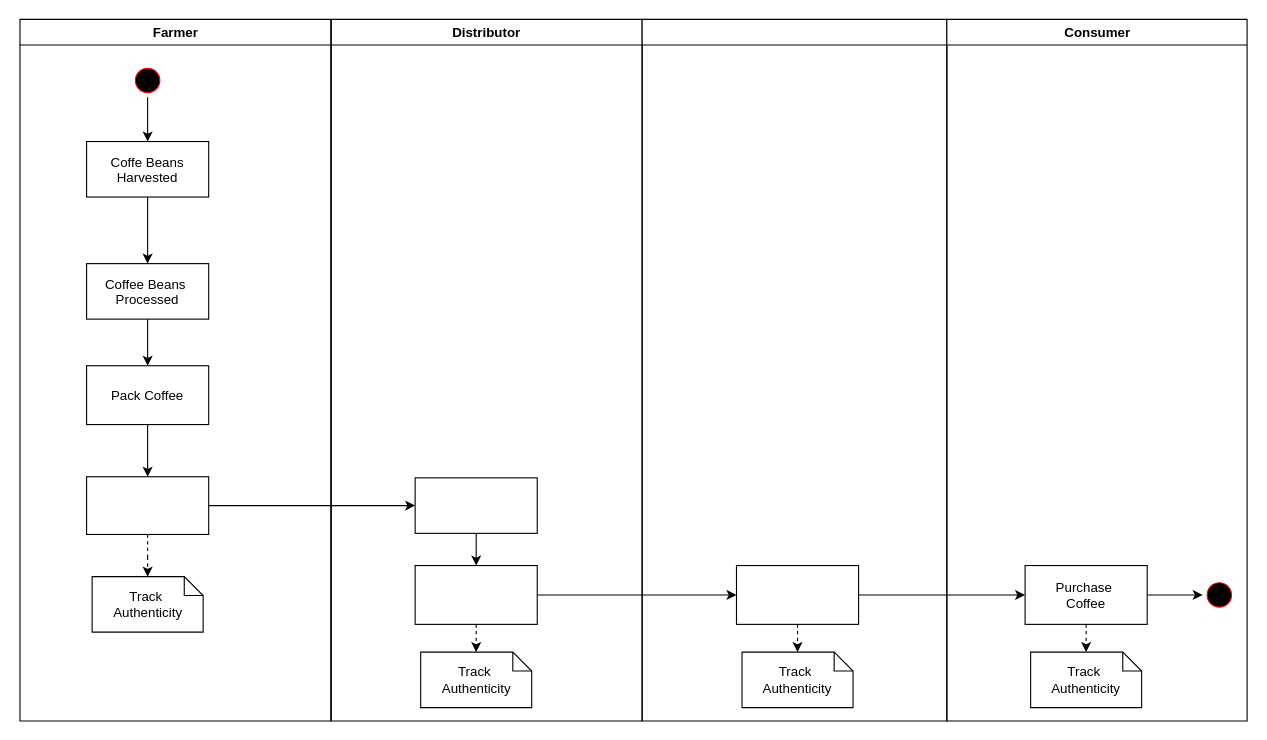
This 1267x740 diagram has some shape labels left out. Each missing label, with the box of its shape:
Buy Coffee: (414, 477, 537, 533)
Receive Coffee: (735, 564, 859, 624)
Retailer: (641, 18, 947, 721)
Sell Coffee: (85, 476, 209, 534)
Ship Coffee: (414, 564, 537, 624)
